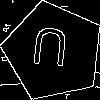U: (28, 27, 71, 76)
